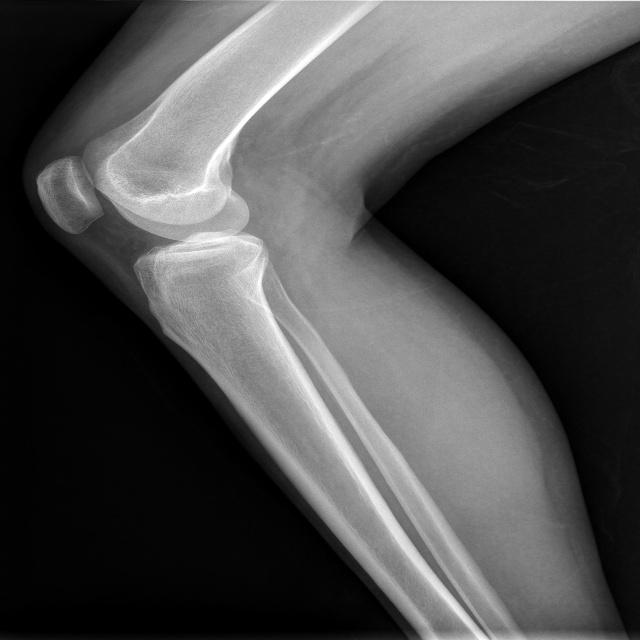Knee: (31, 134, 295, 301)
